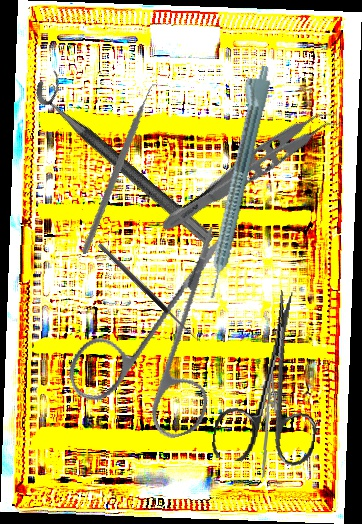Chopper: (55, 81, 194, 255)
Fixation Ring: (29, 67, 228, 248)
Handpiece: (193, 61, 275, 301)
Hook Surgical: (97, 238, 204, 342)
Iris Scissors: (39, 223, 282, 463), (210, 283, 335, 472)
Needle Holder: (256, 365, 287, 478)
Tissue Forceps: (157, 97, 345, 249)
